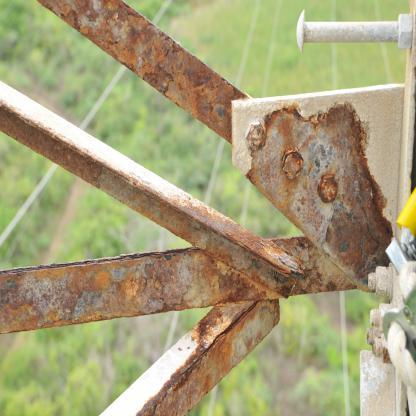Grado3: (248, 105, 384, 276), (139, 9, 243, 139), (0, 262, 240, 311), (23, 102, 104, 192), (171, 351, 233, 401)
